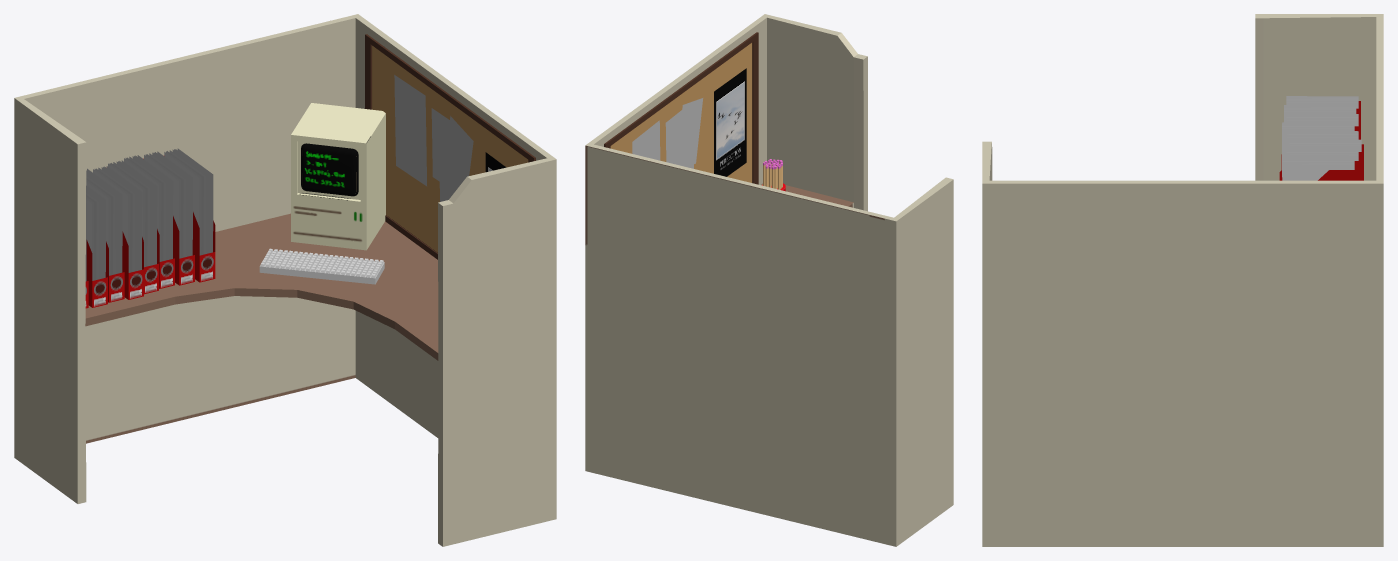
The model's file is Cubicle.fbx.
The picture shows the model from 3 angles, left to right: view 1: azimuth 30°, elevation 25°; view 2: azimuth 150°, elevation 25°; view 3: azimuth 270°, elevation 25°; orthographic projection. The views are drawn at different scales.
Parts seen in each view (by area): view 1: Cubicle, Cube, Plane.008, Cube.002, Plane.013, Plane.007, Plane.006, Plane.003, Plane.005, Plane.004, Plane.002, Plane.001 (+6 smaller); view 2: Cubicle, Plane.008, Plane.009, Plane.010, Plane.013, Plane.011, Cylinder; view 3: Cubicle, Plane.007, Plane.003, Plane.006, Plane.005, Plane, Plane.004, Plane.002, Plane.001.
Part boxes in pixels (x1,y1,x2,y2): Cubicle: (14,14,556,546); Cube: (291,103,385,250); Plane.008: (365,34,535,259); Cube.002: (259,248,384,284); Plane.013: (394,75,426,186); Plane.007: (164,148,213,255); Plane.006: (144,151,192,258); Plane.003: (93,166,142,272); Plane.005: (124,155,173,261); Plane.004: (108,160,157,267); Plane.002: (86,168,122,275); Plane.001: (86,185,105,280); Cubicle: (585,14,953,546); Plane.008: (604,32,758,184); Plane.009: (714,68,746,176); Plane.010: (676,98,703,164); Plane.013: (632,120,660,160); Plane.011: (665,110,682,164); Cylinder: (762,159,785,191); Cubicle: (982,14,1383,546); Plane.007: (1282,157,1354,180); Plane.003: (1282,122,1354,176); Plane.006: (1286,148,1358,160); Plane.005: (1289,139,1361,151); Plane: (1286,96,1358,108); Plane.004: (1286,130,1358,148); Plane.002: (1286,113,1358,126); Plane.001: (1284,105,1356,122).
Bounding box in the file's own units: 200 × 200 × 200.
